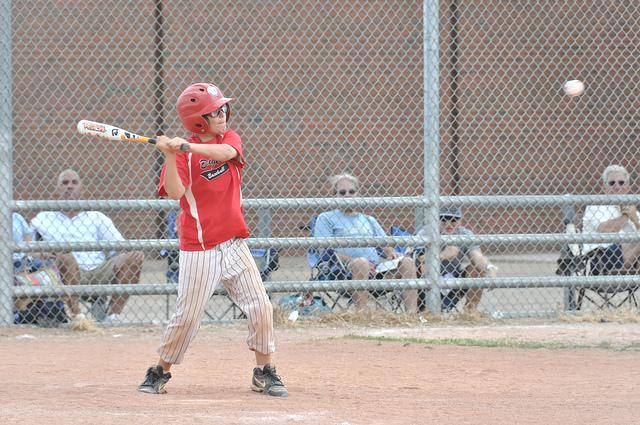baseball bat: (76, 119, 158, 145)
sports ball: (565, 78, 585, 96)
